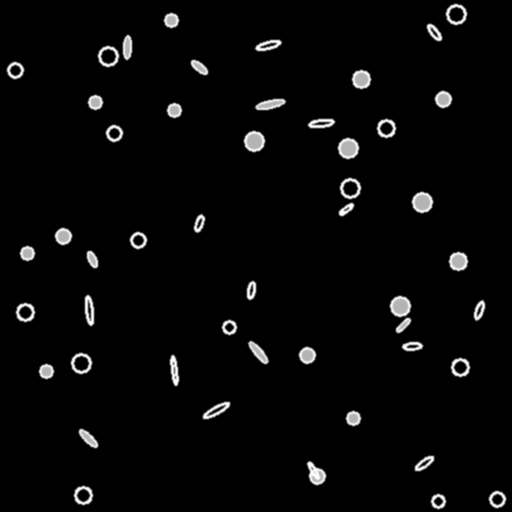pseudomonas: (247, 340, 269, 364), (202, 401, 230, 419), (255, 97, 285, 111), (78, 428, 98, 448), (425, 22, 443, 42), (414, 455, 434, 471), (255, 39, 281, 51), (190, 59, 208, 75), (84, 296, 94, 324), (395, 317, 411, 333), (306, 461, 320, 479), (85, 250, 99, 268), (473, 300, 485, 320), (309, 118, 333, 128), (170, 356, 178, 384), (338, 202, 354, 216), (194, 214, 204, 232), (403, 342, 421, 350), (124, 36, 130, 58), (247, 282, 255, 298)
synechocystis: (447, 5, 465, 23), (341, 179, 359, 197), (391, 297, 409, 315), (99, 47, 117, 65), (72, 354, 90, 372), (339, 139, 357, 157), (413, 193, 431, 211), (245, 132, 263, 150), (75, 487, 91, 503), (378, 120, 394, 136), (353, 71, 369, 87), (17, 304, 33, 320), (450, 253, 466, 269), (452, 359, 468, 375), (131, 233, 145, 247), (300, 348, 314, 362), (436, 92, 450, 106), (310, 469, 324, 483), (56, 229, 70, 243), (8, 63, 22, 77), (107, 126, 121, 140), (490, 492, 504, 506), (21, 247, 33, 259), (168, 104, 180, 116), (89, 96, 101, 108), (40, 365, 52, 377), (223, 321, 235, 333), (347, 412, 359, 424), (432, 495, 444, 507), (165, 14, 177, 26)
